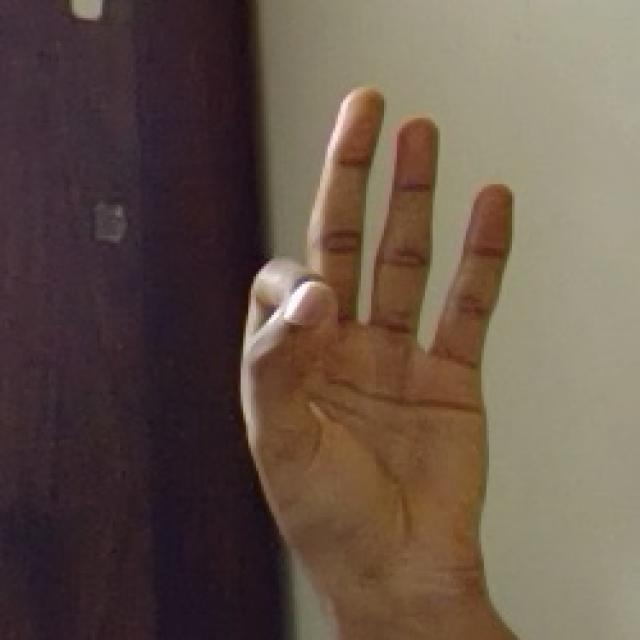Numeric-9: (239, 66, 519, 600)
